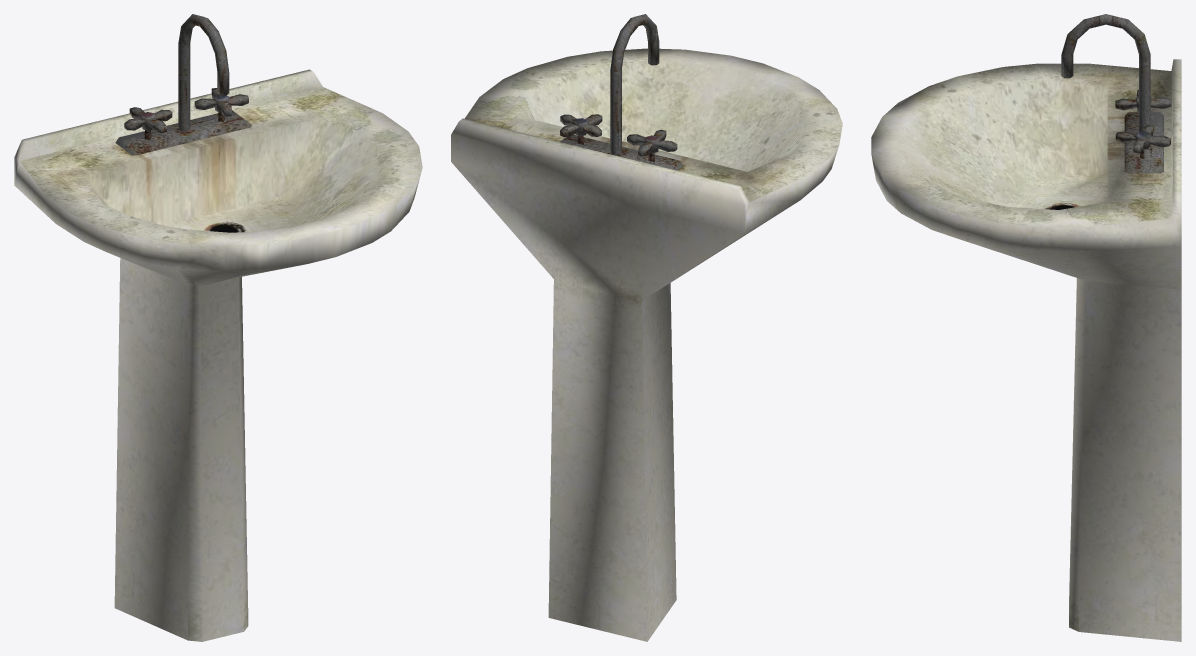
File: Sink.glb
The picture shows the model from 3 angles, left to right: view 1: azimuth 30°, elevation 25°; view 2: azimuth 150°, elevation 25°; view 3: azimuth 270°, elevation 25°; orthographic projection. The views are drawn at different scales.
Visible parts, largest first — view 1: Object_2; view 2: Object_2; view 3: Object_2.
Boxes of the visible parts, box(x1,y1,x2,y2) form: Object_2: box(14, 14, 422, 641); Object_2: box(451, 14, 842, 641); Object_2: box(871, 14, 1181, 641).
Bounding box in the file's own units: 0.5492 × 0.9434 × 0.4402.
1 material, 1 textured.
